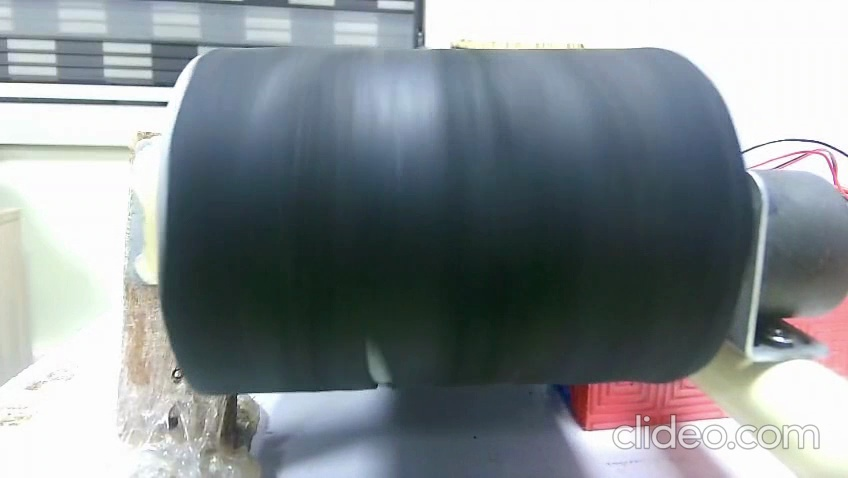tear: (358, 331, 401, 391)
